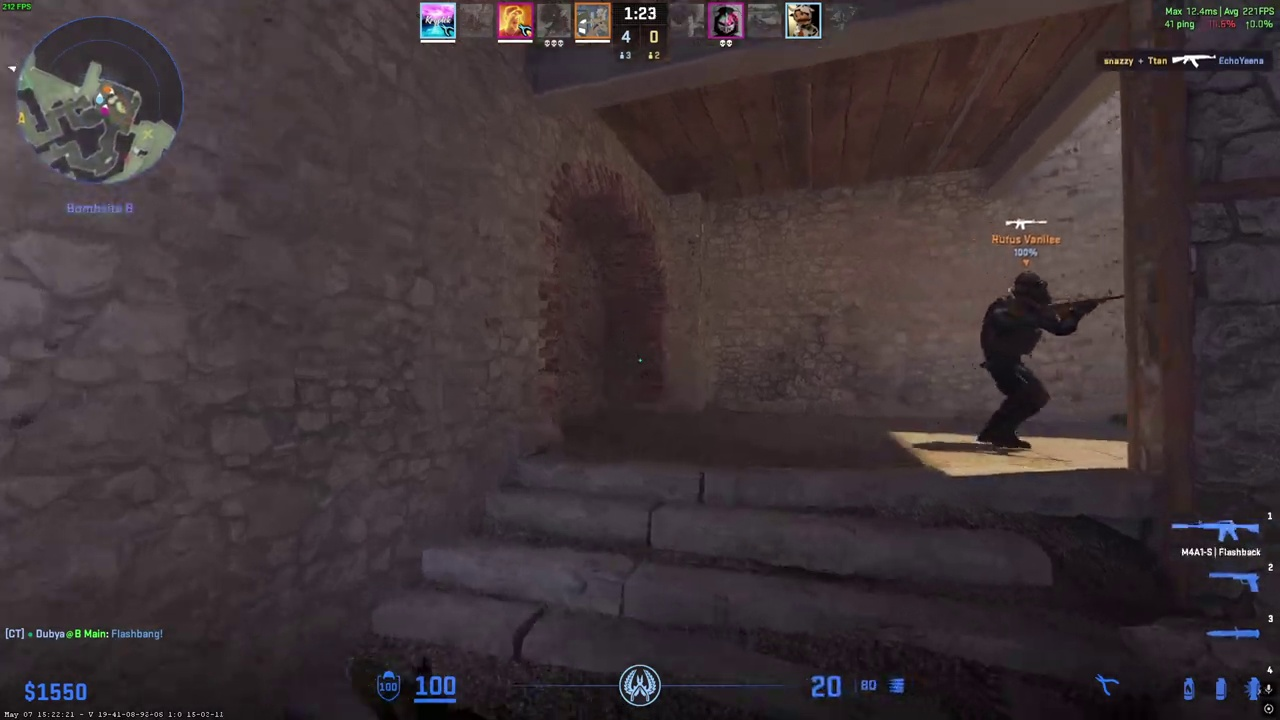CT: (979, 270, 1064, 449)
